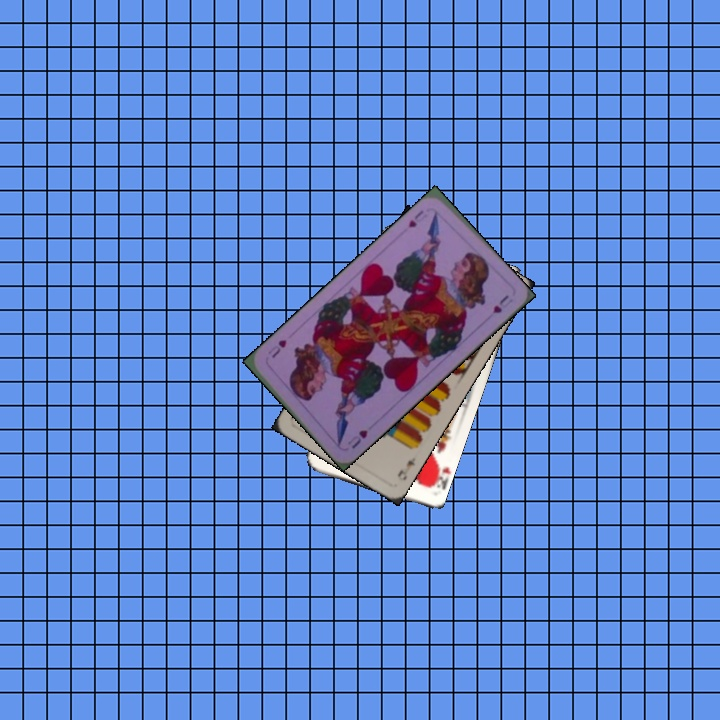E9: (393, 453, 418, 483)
HK: (424, 456, 449, 491)
HU: (343, 426, 370, 451), (404, 206, 426, 230)
